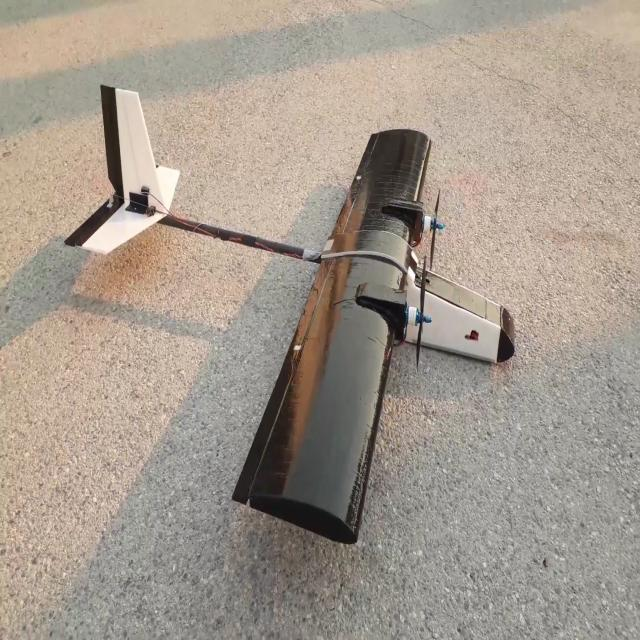iha: (62, 84, 513, 527)
